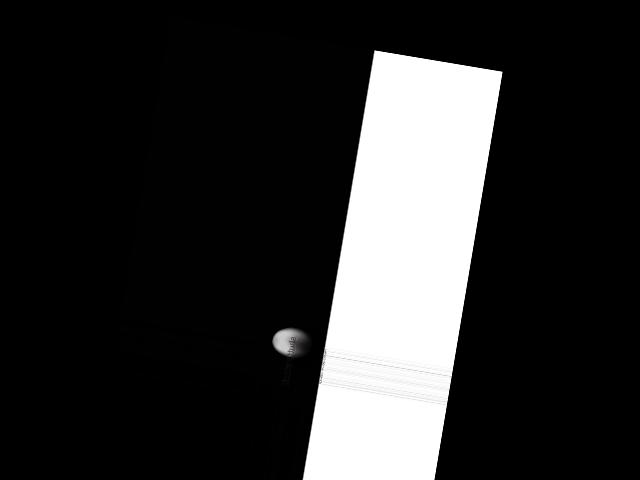egg: (269, 324, 315, 360)
